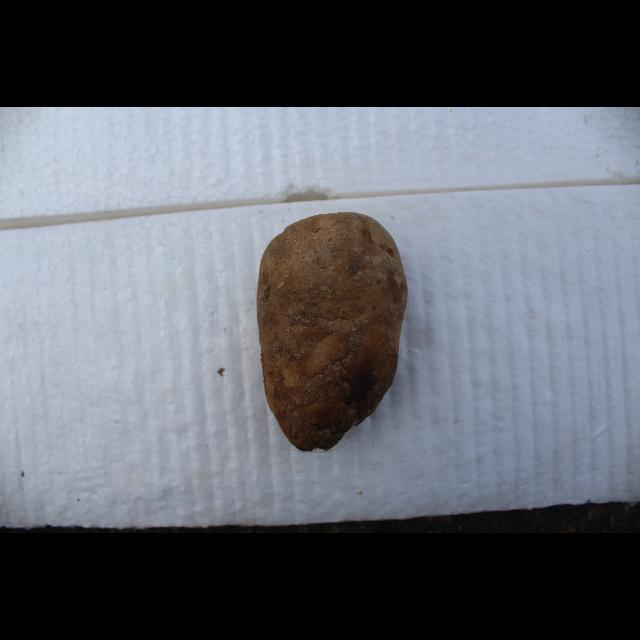Diseased-fungal potato: (250, 208, 408, 457)
